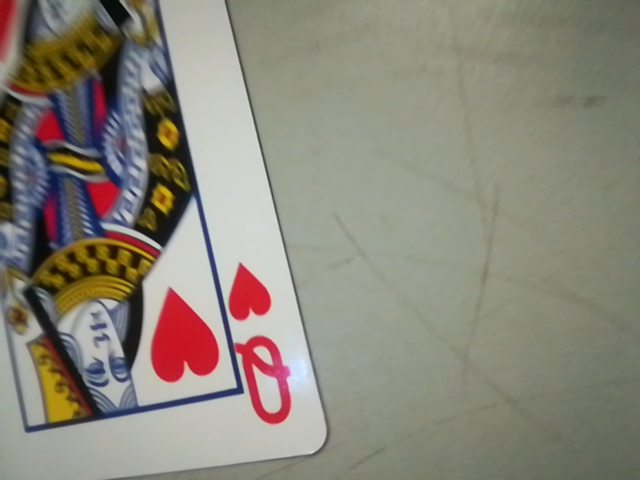hx q: (221, 252, 308, 440)
